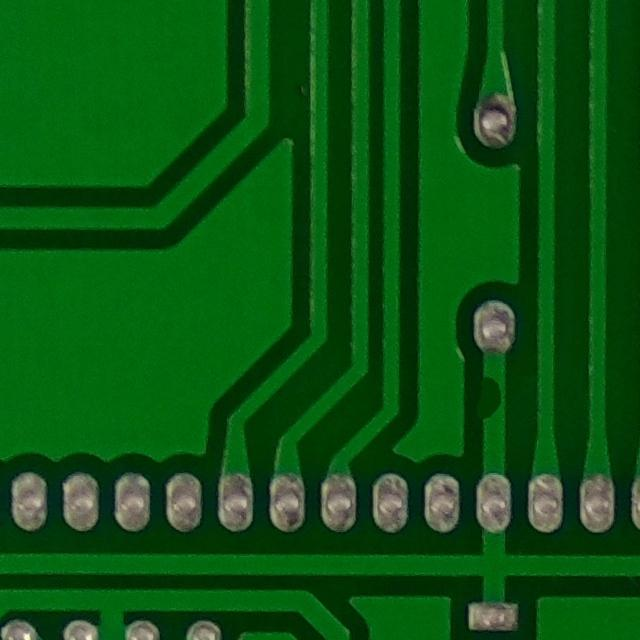mouse_bite: (466, 363, 518, 437)
